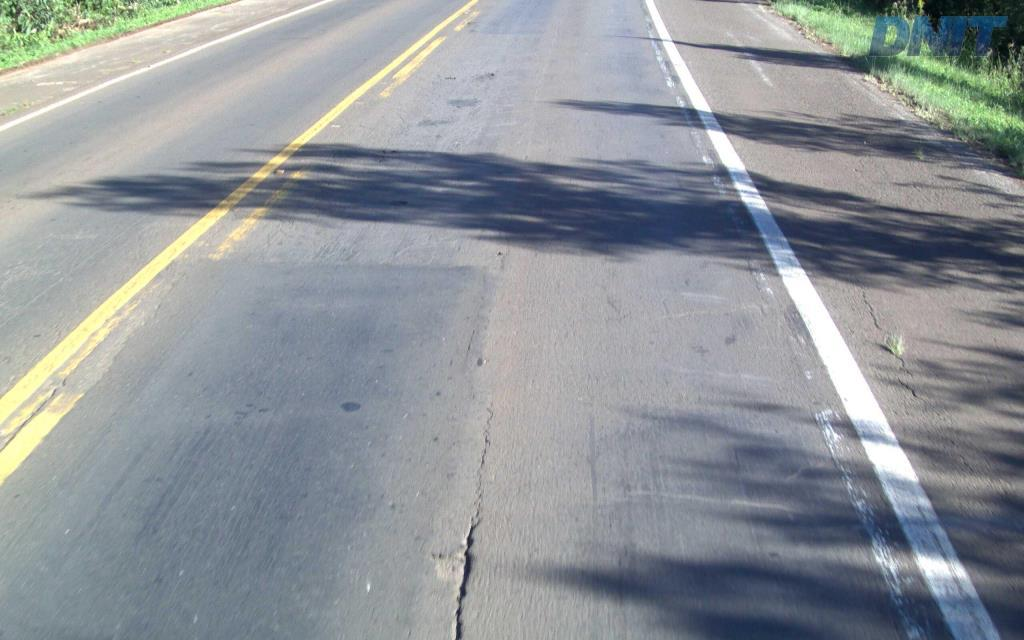crack: (458, 520, 479, 603)
pothole: (423, 538, 484, 589)
